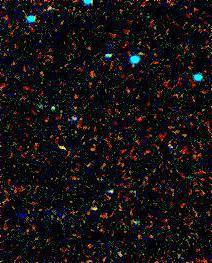star: (77, 57, 107, 87)
